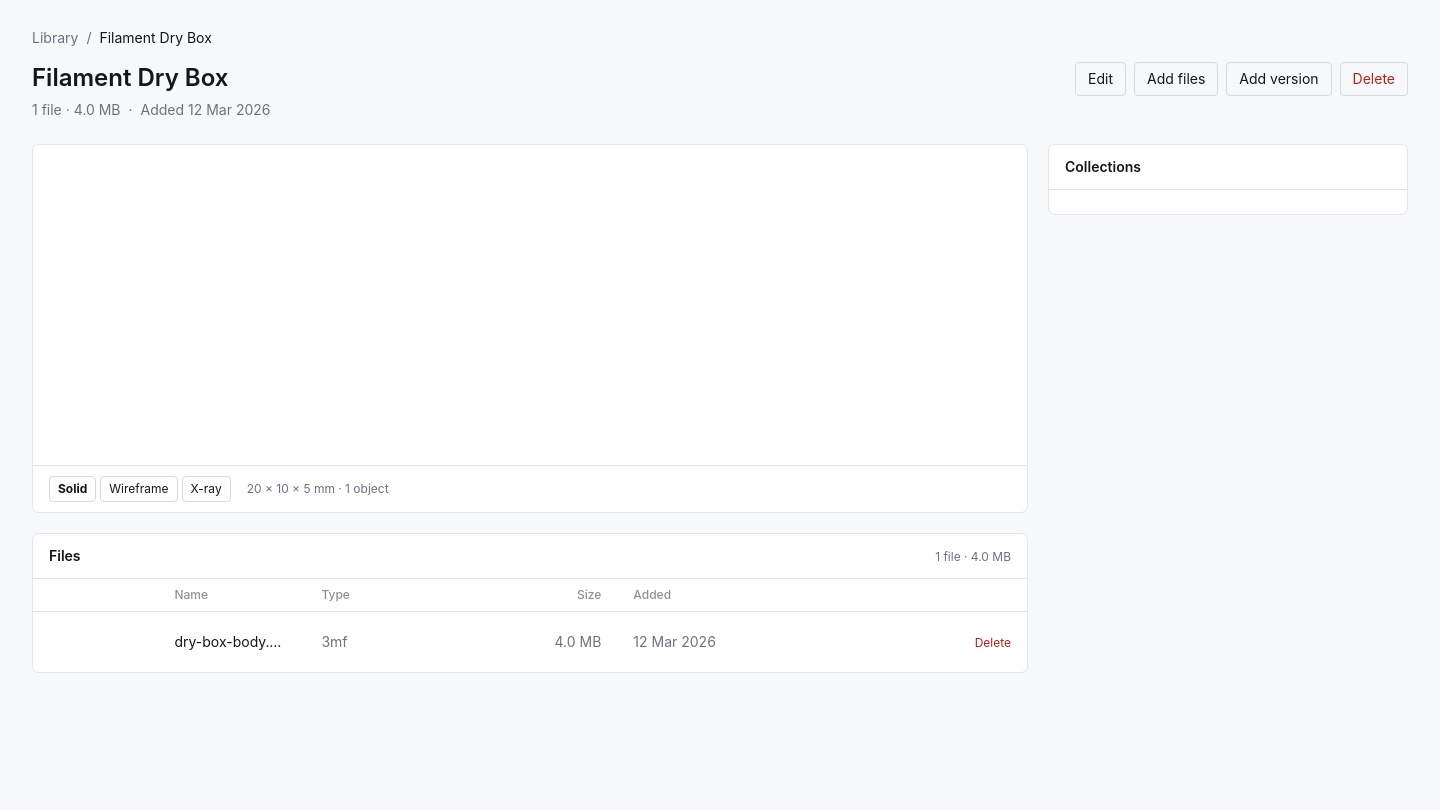
Test: model detail page › saves an edit and renders the response without re-reading
Expected: the heading "Filament Dry Box" is shown, [32,63,228,92]
Step 1. Click the button "Edit" → (1101, 79), box [1075,62,1126,96]
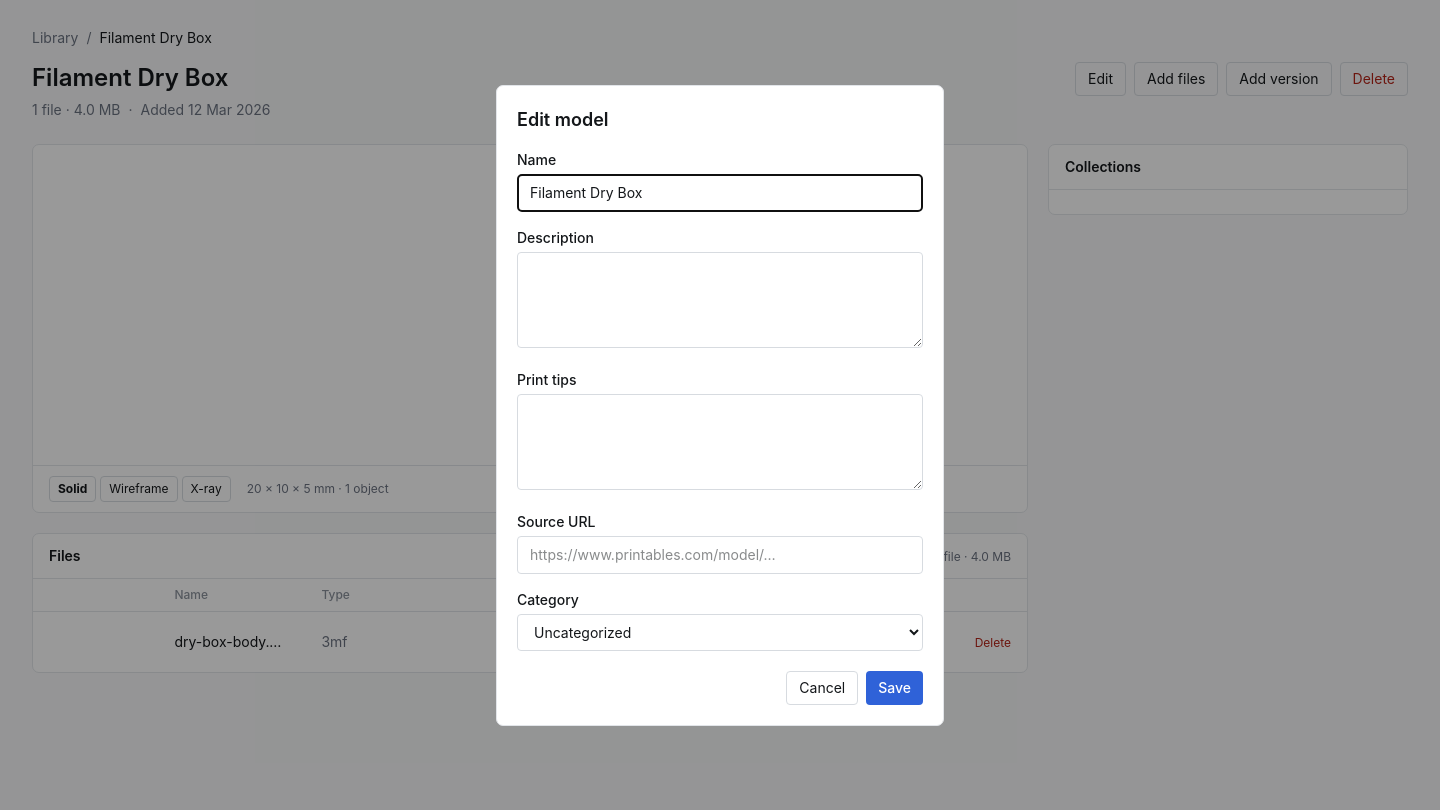
Step 2. Replace the text in the field labelled "Name" with "Dry Box v2" → (720, 192), box [517,174,923,212]
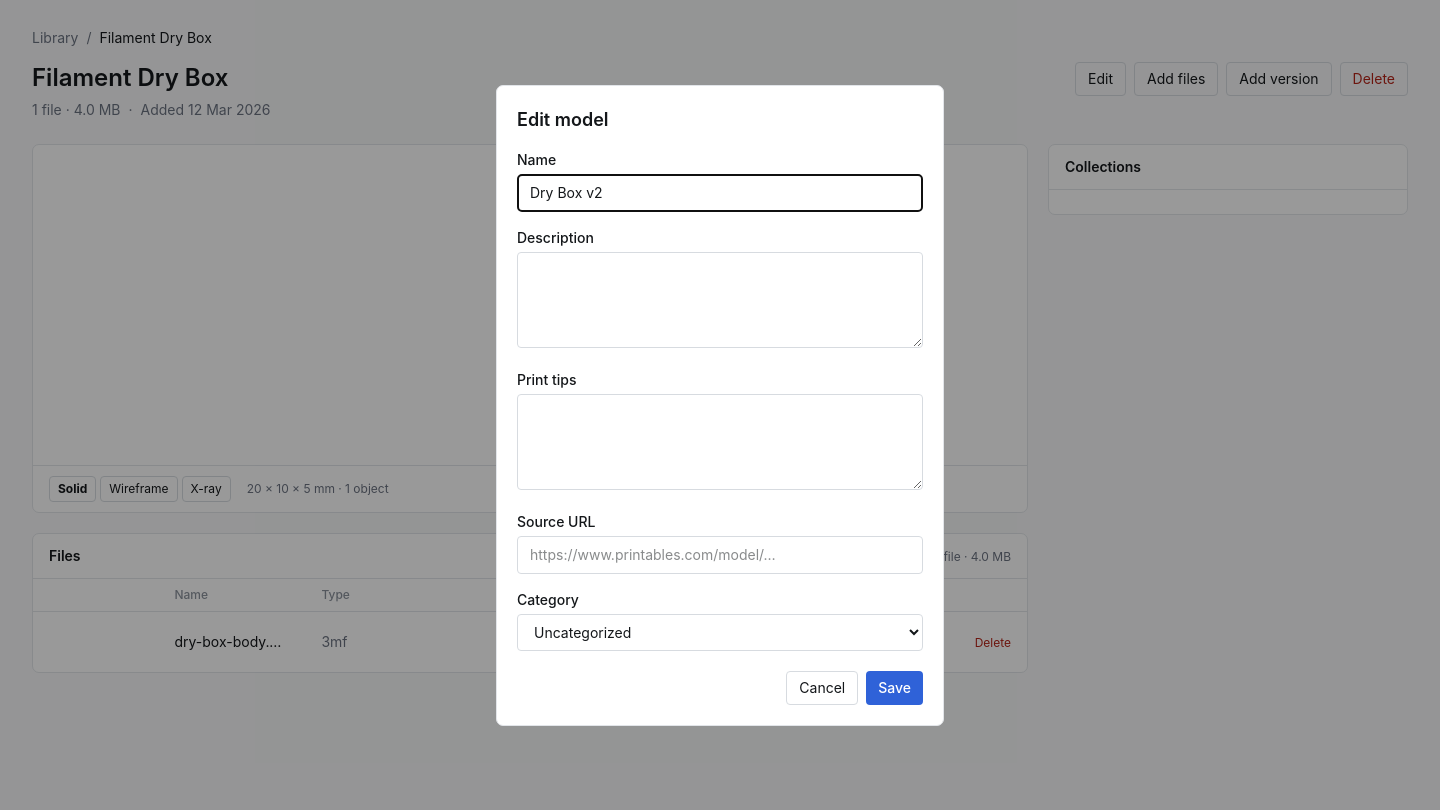
Step 3. Click the button "Save" → (895, 688), box [866,670,923,704]
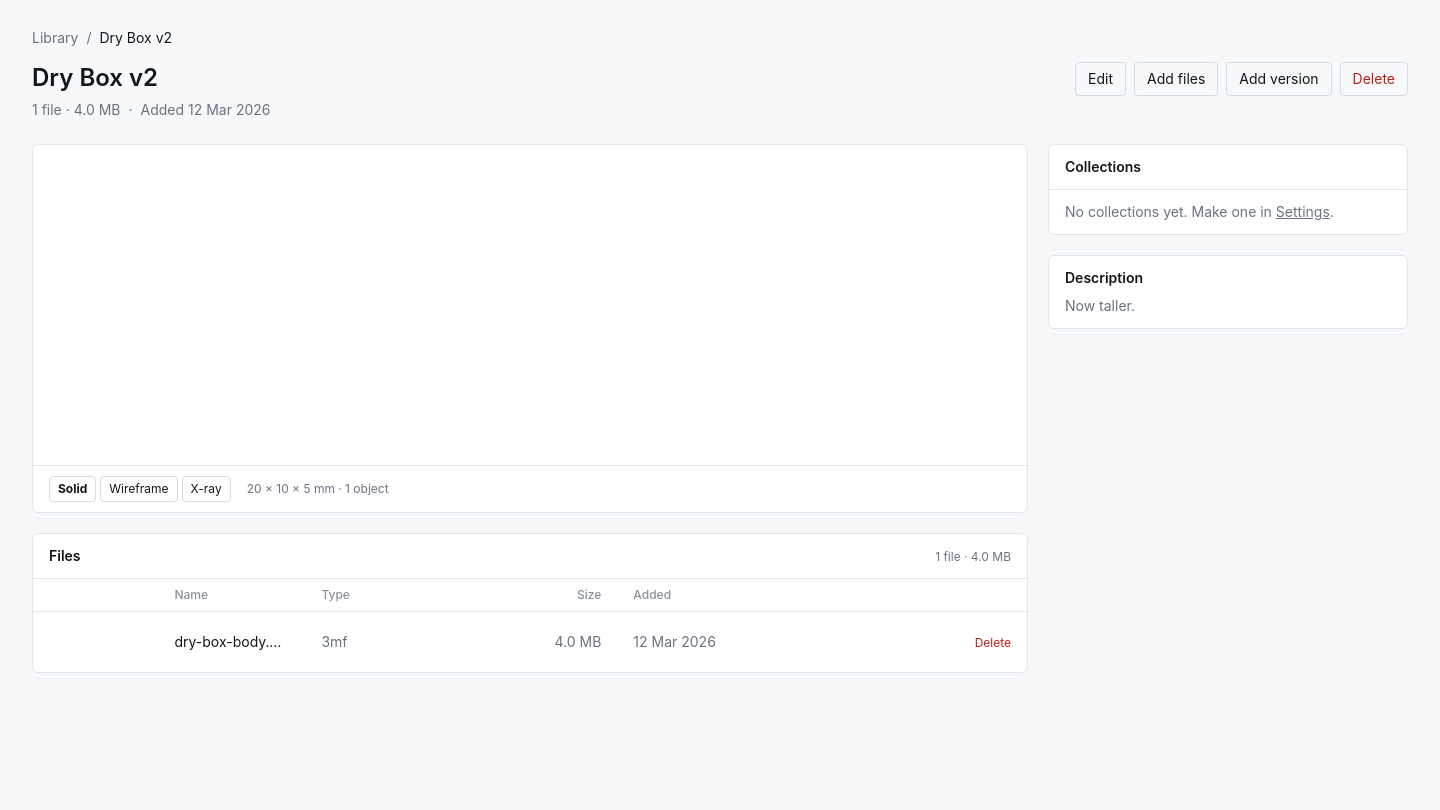
Expected: the heading "Dry Box v2" is shown, [32,63,158,92]
Expected: the dialog is gone
Expected: the text "Dry Box v2" is shown, [99,28,172,48]
